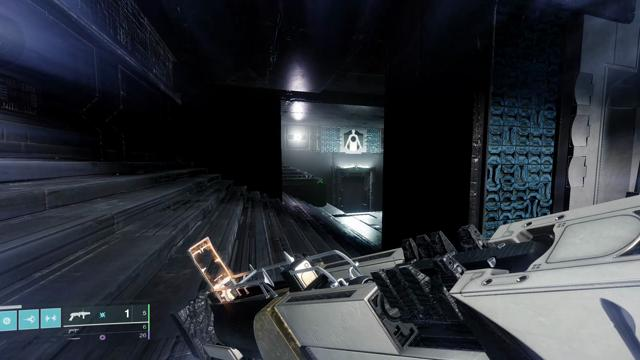grief: (344, 130, 363, 151)
